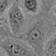cell: (7, 43, 26, 56), (27, 27, 42, 42), (9, 8, 23, 24), (24, 1, 39, 14)
